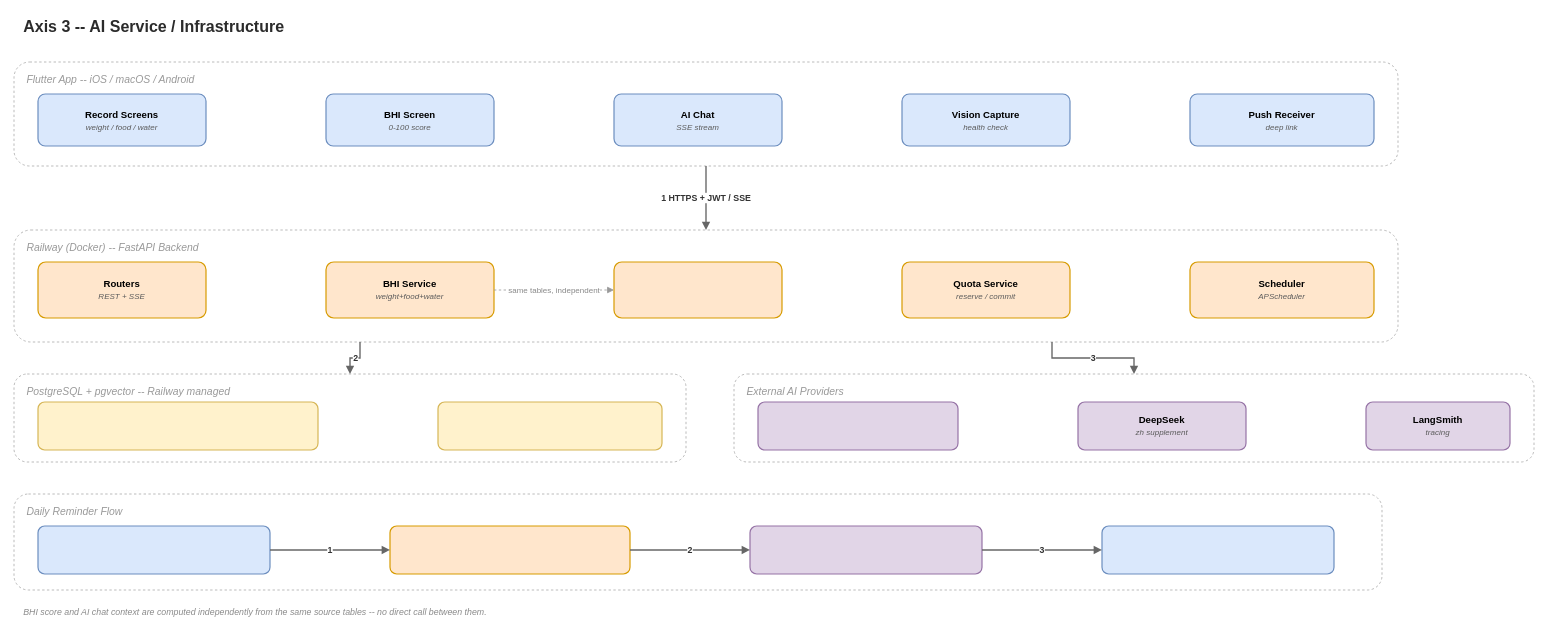
This 1548x634 diagram has some shape labels left out. Here are the shapes that lost their labels. From the top down, the centre of each, then its label:
At point (697, 289): "AI / Chat Service Axis 1 + Axis 2".
At point (177, 425): "App Tables pets / records / chats".
At point (549, 425): "knowledge_chunks vector(3072), HNSW".
At point (857, 425): "OpenAI GPT + embeddings".
At point (153, 549): "Device Token stored on login".
At point (509, 549): "Scheduler Query 17:00 KST daily".
At point (865, 549): "FCM Push Firebase Admin SDK".
At point (1217, 549): "Deep Link Open record screen".
